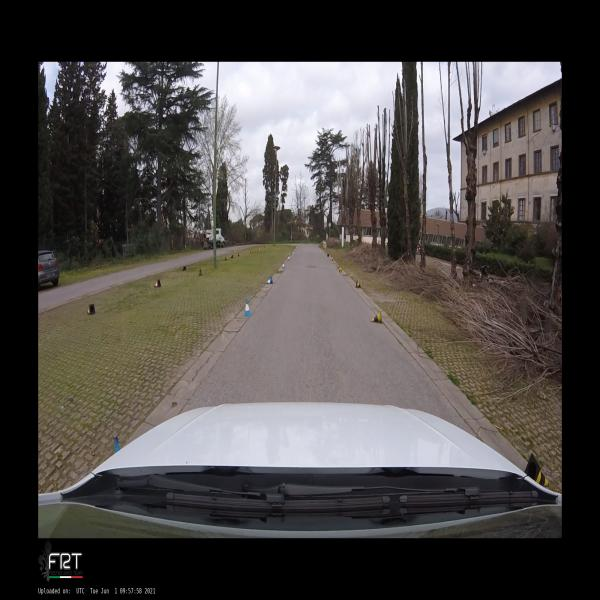blue_cone: (114, 436, 121, 453), (244, 301, 251, 316), (266, 277, 273, 284), (282, 263, 285, 269), (288, 256, 290, 260), (289, 253, 291, 255)
unknown_cone: (87, 304, 95, 315), (154, 279, 161, 287), (198, 267, 202, 276), (182, 266, 186, 270), (238, 252, 241, 256), (225, 254, 227, 260), (248, 250, 251, 254), (231, 255, 233, 258), (327, 254, 329, 257)
yellow_cone: (524, 452, 549, 486), (371, 310, 382, 324), (355, 281, 362, 288), (339, 267, 342, 273), (332, 258, 333, 262)
